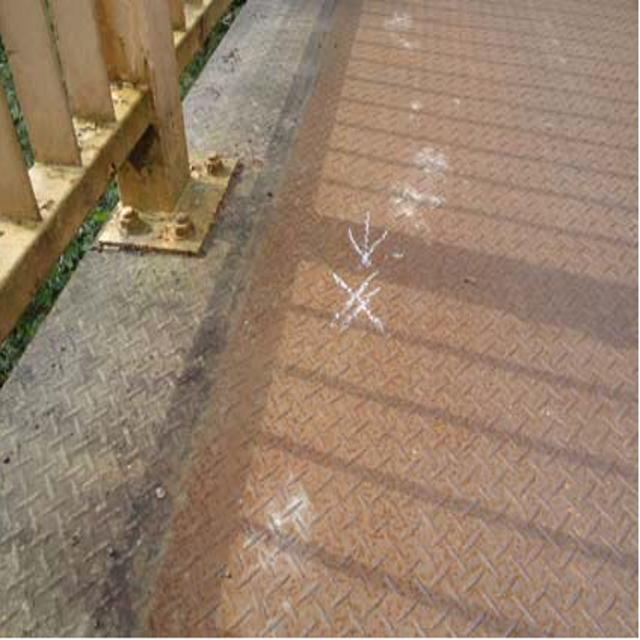corrosion: (107, 97, 224, 250)
